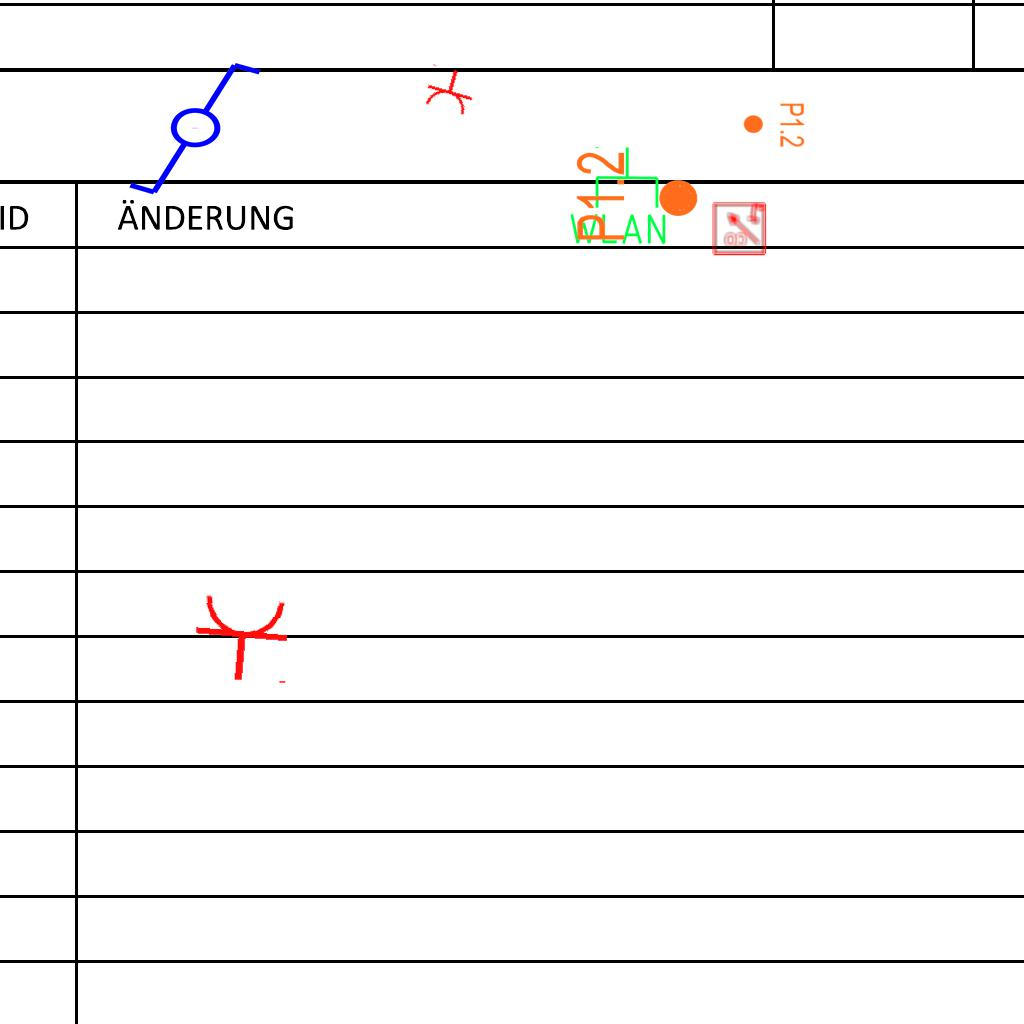Downlight_LED_Einbauleuchten_Flur: (573, 150, 701, 243), (742, 102, 806, 148)
ROA_Rauchmelder_optisch_mit_Signalgeber_(Sockelsirene): (711, 200, 767, 256)
Schukosteckdose_einfach: (189, 591, 298, 687), (419, 62, 480, 118)
WLAN: (565, 144, 670, 248)
Wechselschalter: (125, 58, 282, 202)
